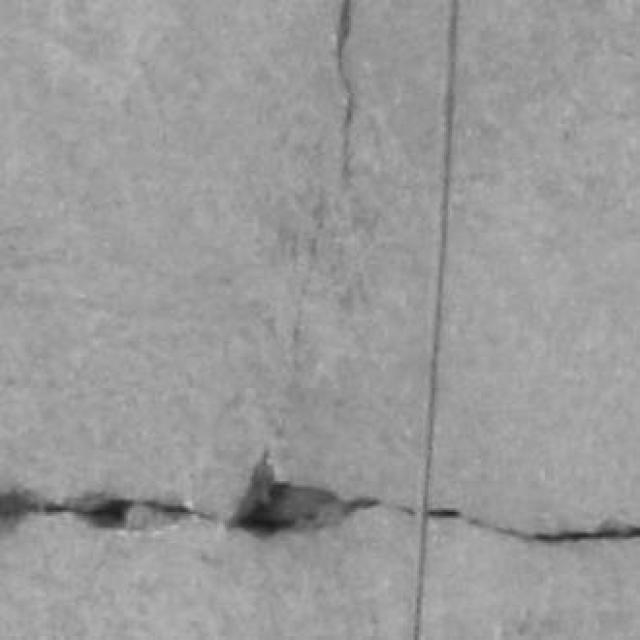crack: (0, 452, 415, 537), (229, 452, 389, 535), (0, 489, 217, 533), (429, 509, 639, 544), (336, 0, 356, 184)
